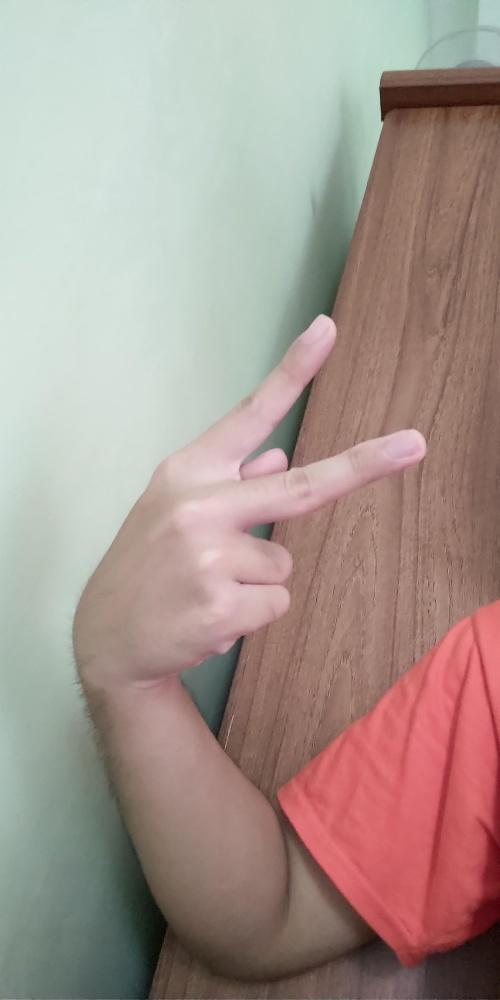k: (71, 309, 430, 678)
